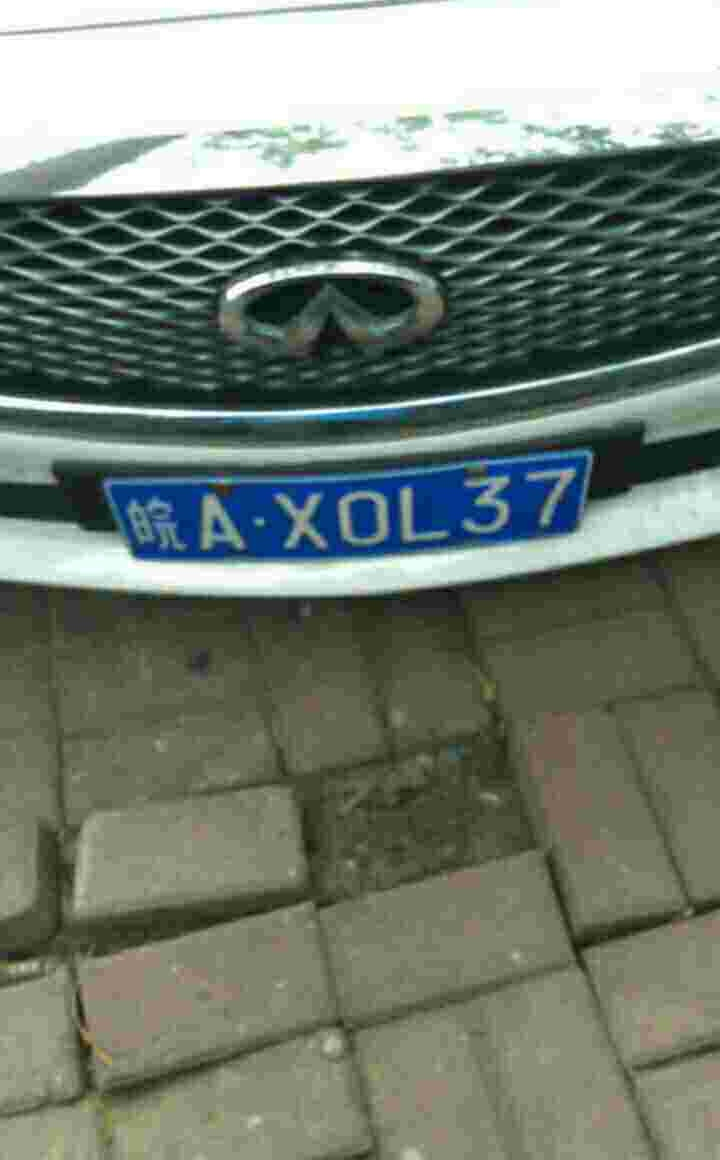license_plate: (100, 449, 597, 560)
